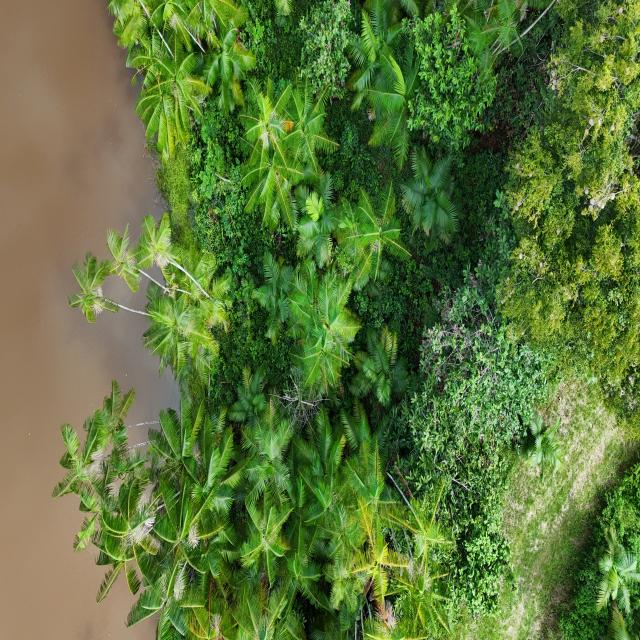vegetation: (51, 1, 638, 638)
